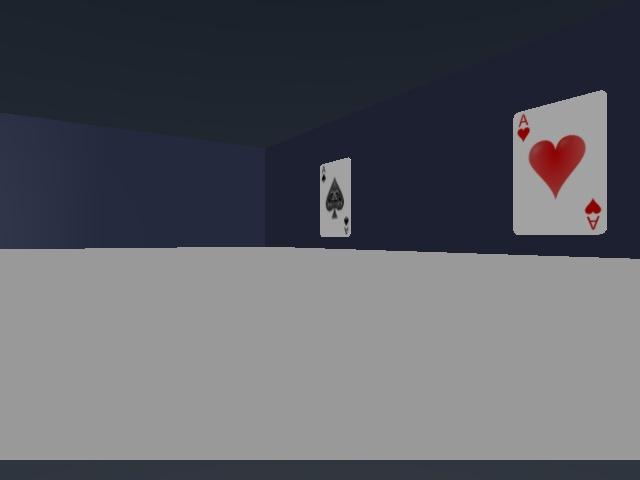heart: (513, 91, 606, 234)
spade: (320, 158, 351, 236)
